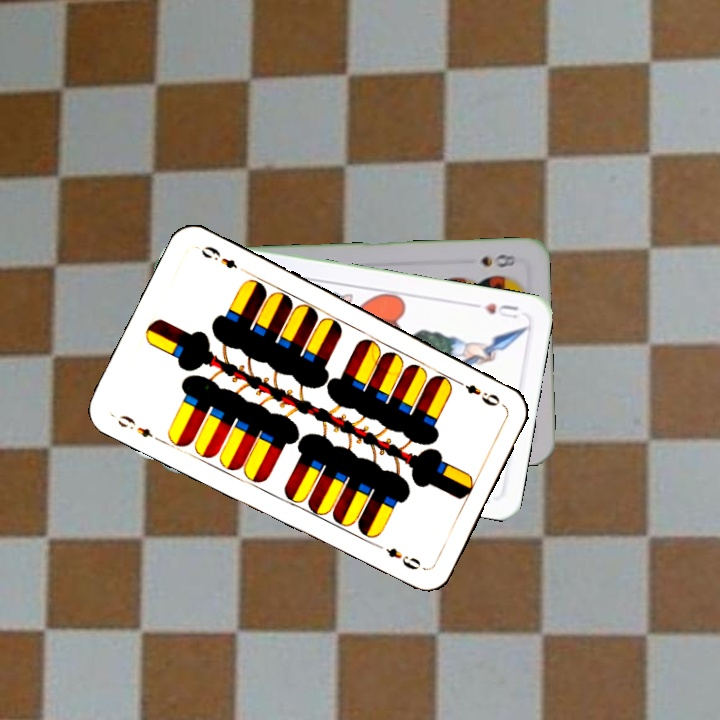E9: (113, 411, 164, 445), (452, 376, 503, 409)
HU: (468, 299, 521, 322)
S8: (476, 249, 518, 271)
